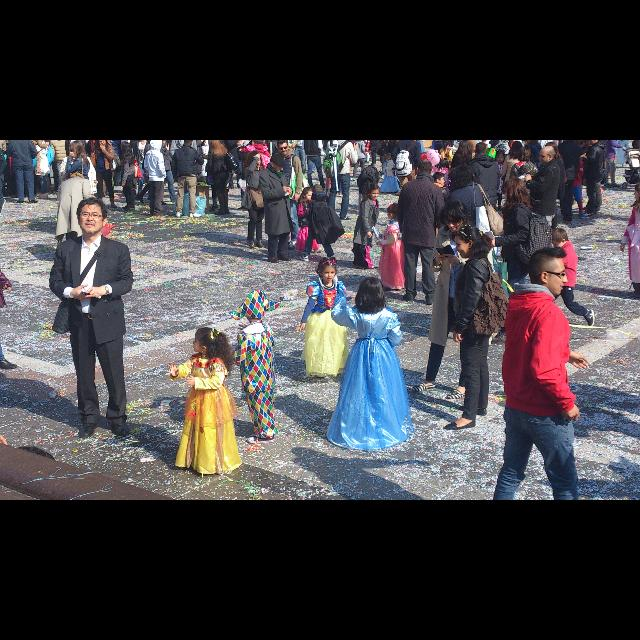head: (529, 246, 569, 298), (76, 198, 108, 236), (454, 225, 481, 259), (193, 327, 219, 353), (358, 278, 382, 306), (444, 202, 466, 232), (504, 178, 526, 202), (451, 164, 473, 186), (318, 257, 336, 283), (550, 228, 568, 248), (538, 146, 556, 164), (416, 159, 434, 177), (245, 305, 262, 321), (270, 155, 284, 173), (69, 140, 83, 158), (432, 172, 446, 186), (387, 204, 399, 220), (303, 186, 315, 202), (249, 152, 261, 168), (368, 183, 379, 200), (519, 146, 531, 160), (474, 142, 486, 156), (312, 184, 324, 198), (460, 140, 470, 154), (513, 140, 523, 152), (121, 142, 131, 152), (497, 152, 505, 164), (208, 140, 220, 148), (439, 158, 448, 168), (151, 140, 161, 148), (72, 174, 82, 182), (384, 154, 392, 162), (367, 167, 375, 175), (589, 140, 599, 146), (252, 140, 260, 146), (184, 140, 192, 146), (98, 140, 106, 146), (334, 140, 344, 144), (405, 140, 413, 144), (241, 140, 249, 144), (37, 140, 45, 144), (160, 140, 167, 144), (15, 140, 22, 144), (356, 140, 362, 142), (310, 140, 316, 142), (56, 140, 62, 142), (608, 140, 612, 142)
person: (47, 195, 137, 442), (323, 276, 417, 452), (410, 200, 488, 400), (442, 224, 514, 432), (165, 327, 245, 478), (488, 177, 554, 321), (227, 289, 283, 445), (396, 159, 448, 307), (294, 256, 356, 380), (444, 163, 506, 285), (532, 227, 596, 329), (523, 145, 561, 257), (298, 184, 347, 266), (258, 155, 294, 265), (467, 141, 501, 245), (55, 172, 93, 264), (321, 140, 359, 224), (374, 202, 408, 292), (509, 146, 541, 240), (240, 150, 270, 250), (350, 182, 382, 272), (170, 140, 206, 218), (500, 140, 530, 222), (64, 140, 92, 226), (293, 186, 327, 256), (6, 140, 40, 204), (206, 140, 234, 216), (143, 140, 169, 220), (580, 140, 606, 216), (89, 140, 117, 210), (424, 170, 450, 243), (390, 140, 422, 197), (156, 140, 178, 206), (450, 140, 474, 200), (236, 140, 256, 212), (238, 140, 272, 180), (301, 140, 327, 192), (356, 164, 382, 216), (602, 140, 628, 190), (491, 149, 511, 211), (49, 140, 71, 194), (120, 140, 136, 212), (376, 152, 402, 194), (33, 140, 51, 200), (434, 158, 452, 208), (352, 140, 366, 182)
